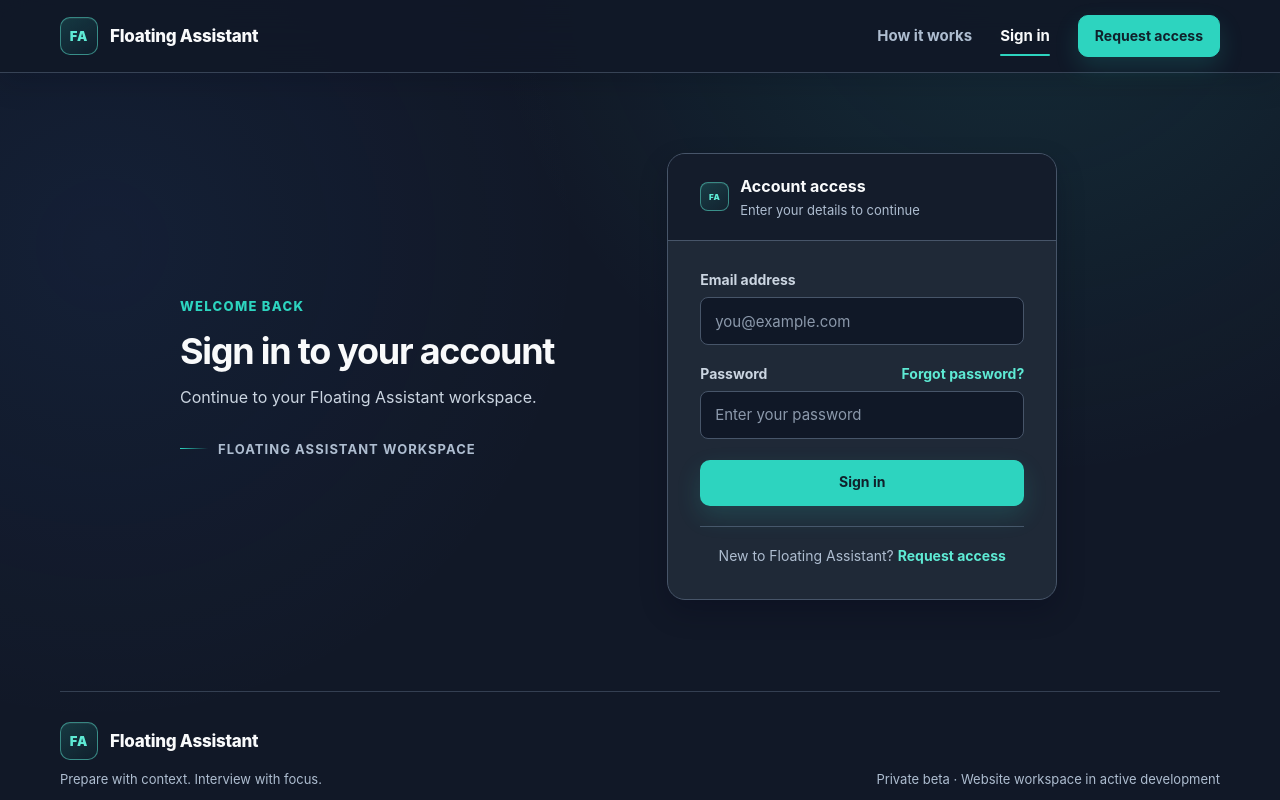
Test: website routing and authentication › shows a sanitized invalid-credentials error
Type "candidate@example.com" into the field labelled "Email address" at (862, 321), box [700,297,1024,345]
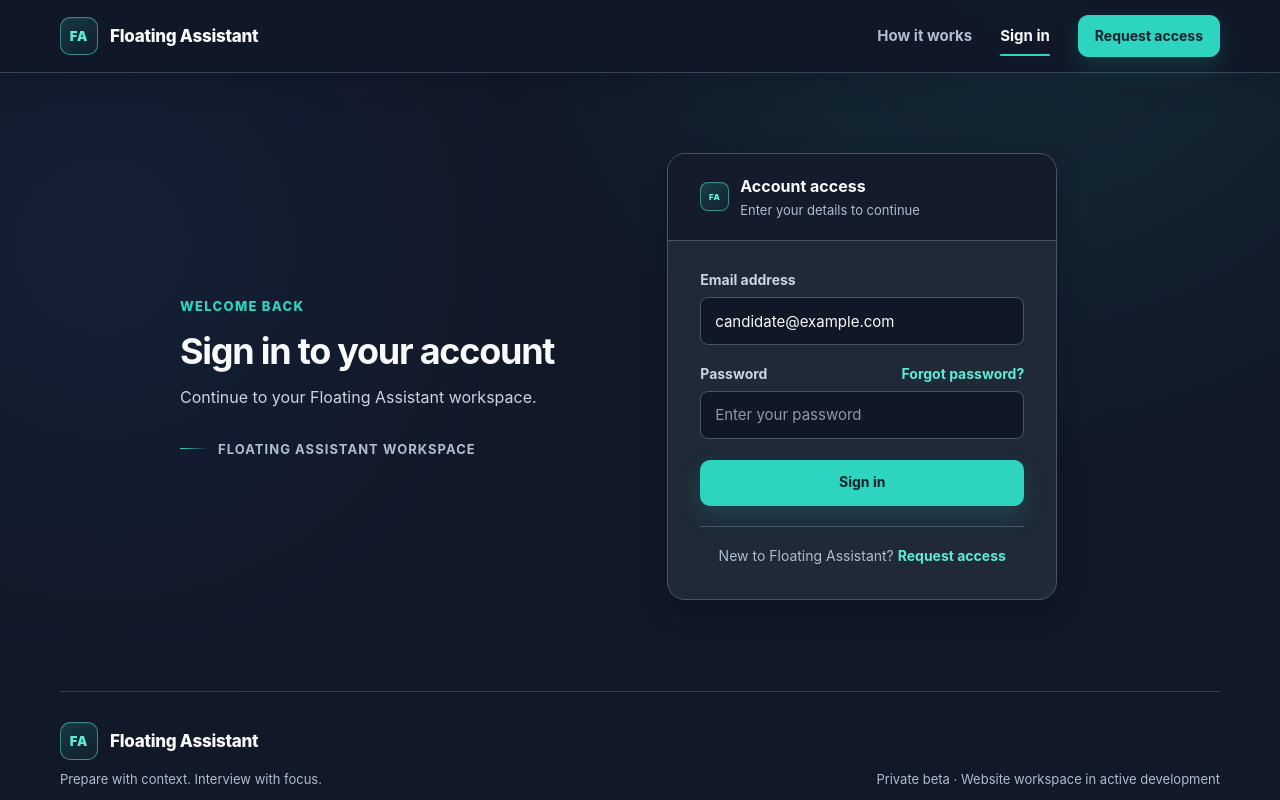
Type "wrong password" into the password field labelled "Password" at (862, 415), box [700,391,1024,439]
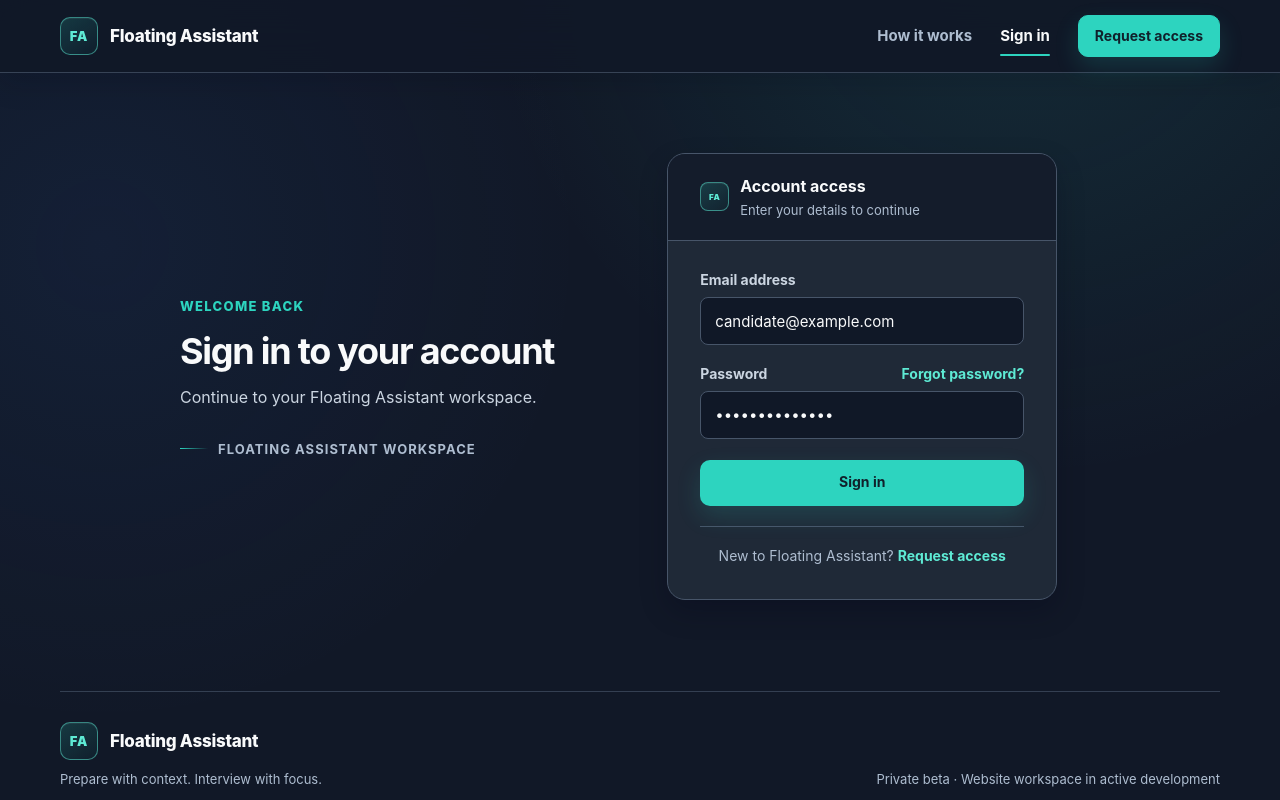
Click the button "Sign in" at (862, 483), box [700,460,1024,506]
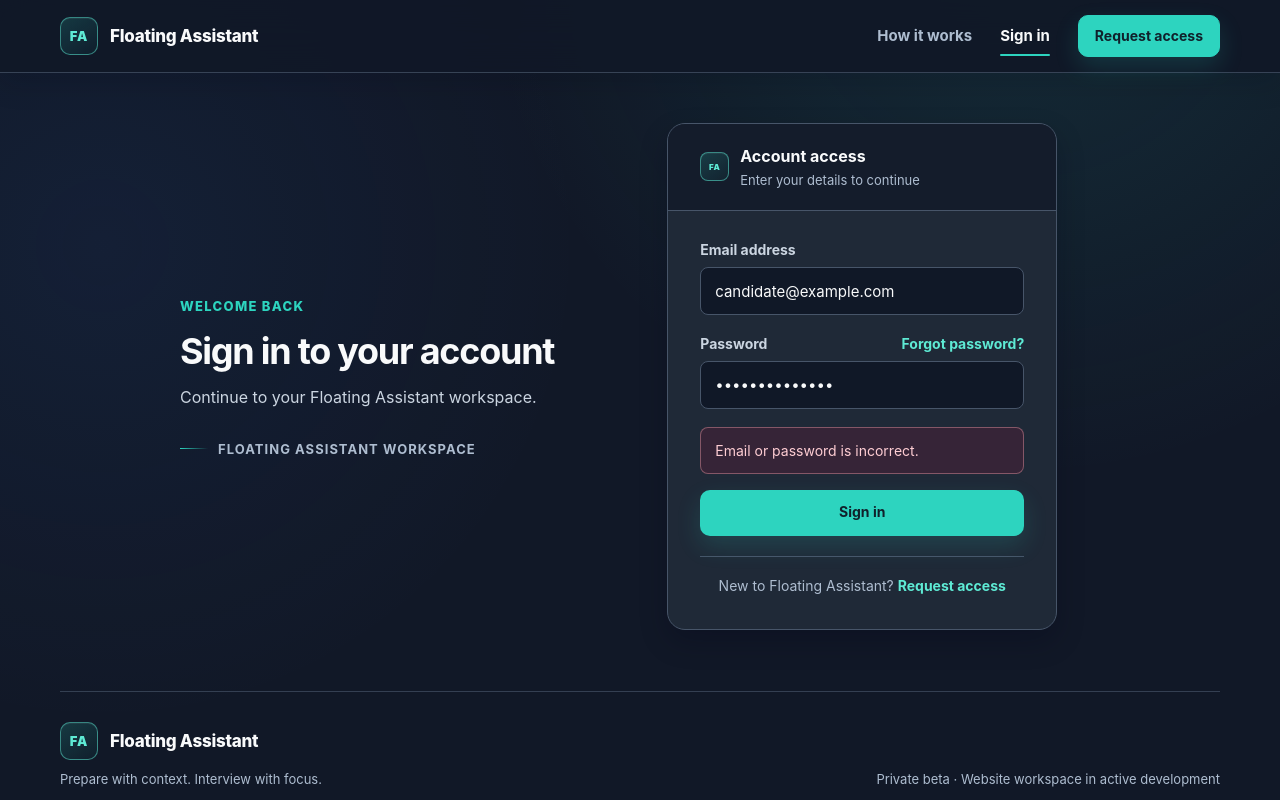
Now the message reads "Email or password is incorrect.", box [715,442,919,459]
